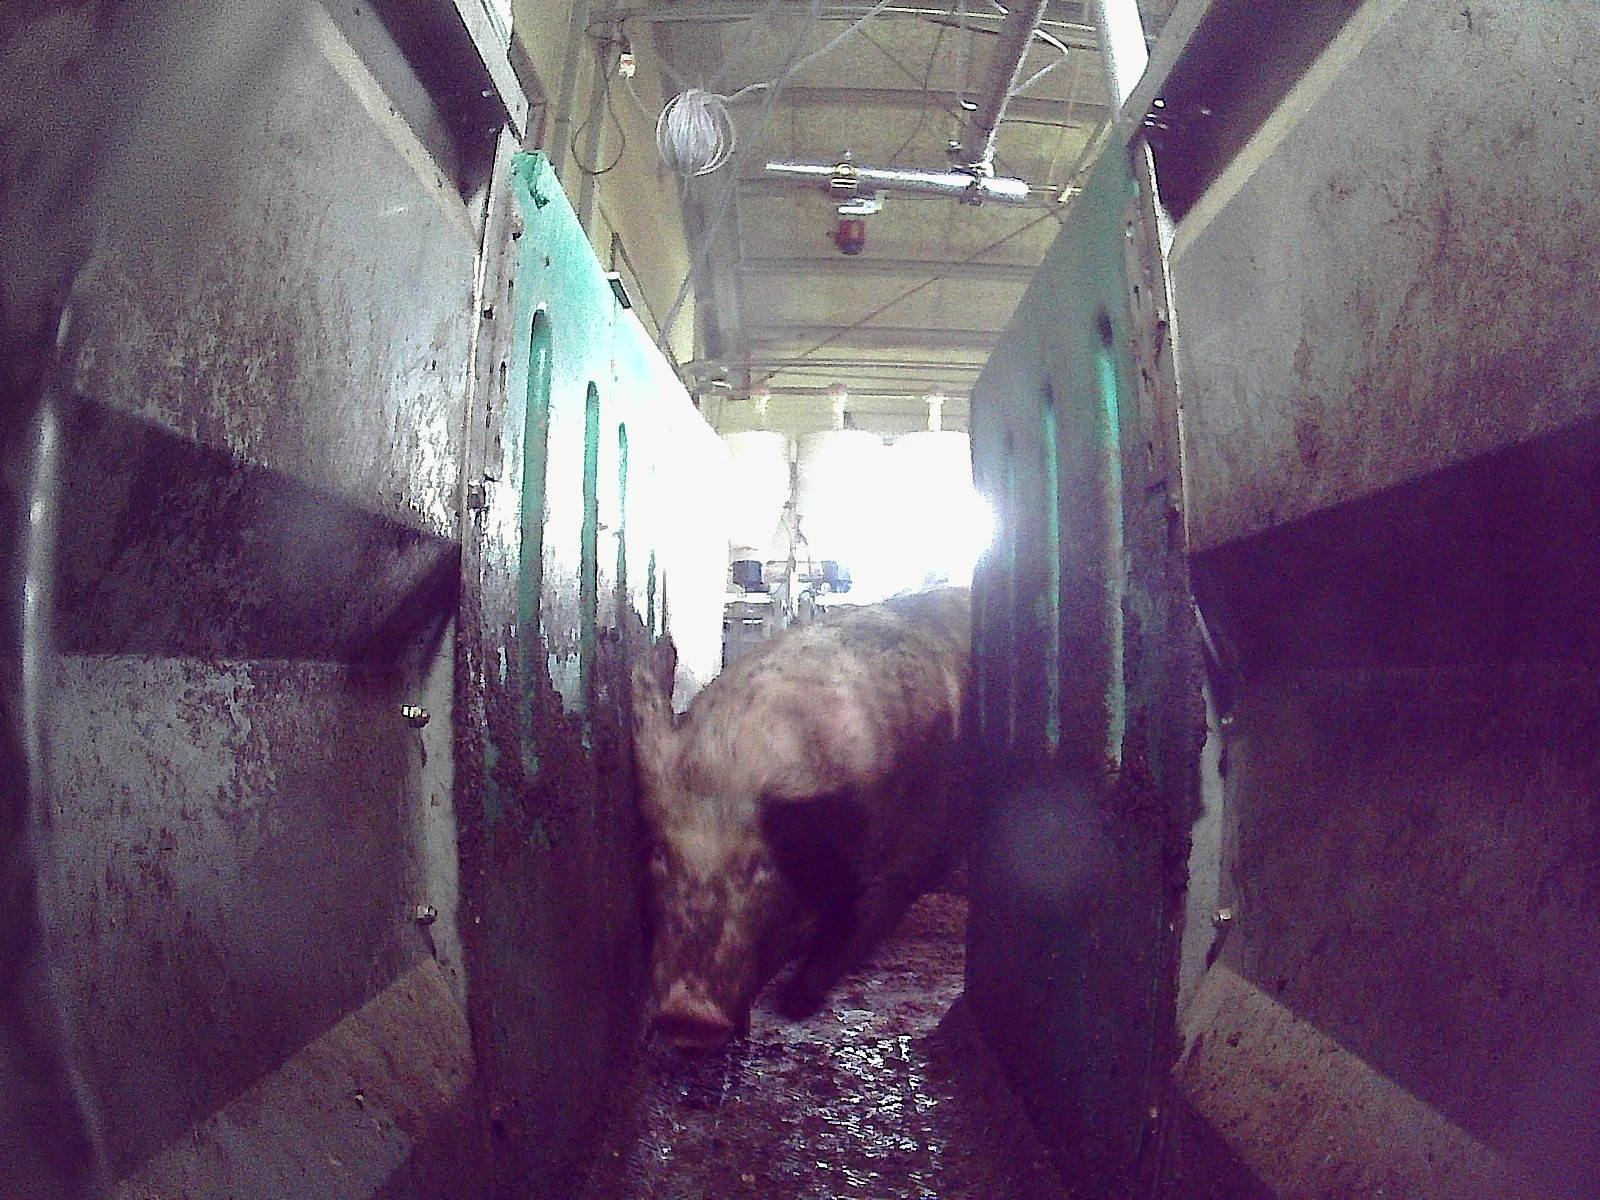Face: (628, 767, 813, 1050)
